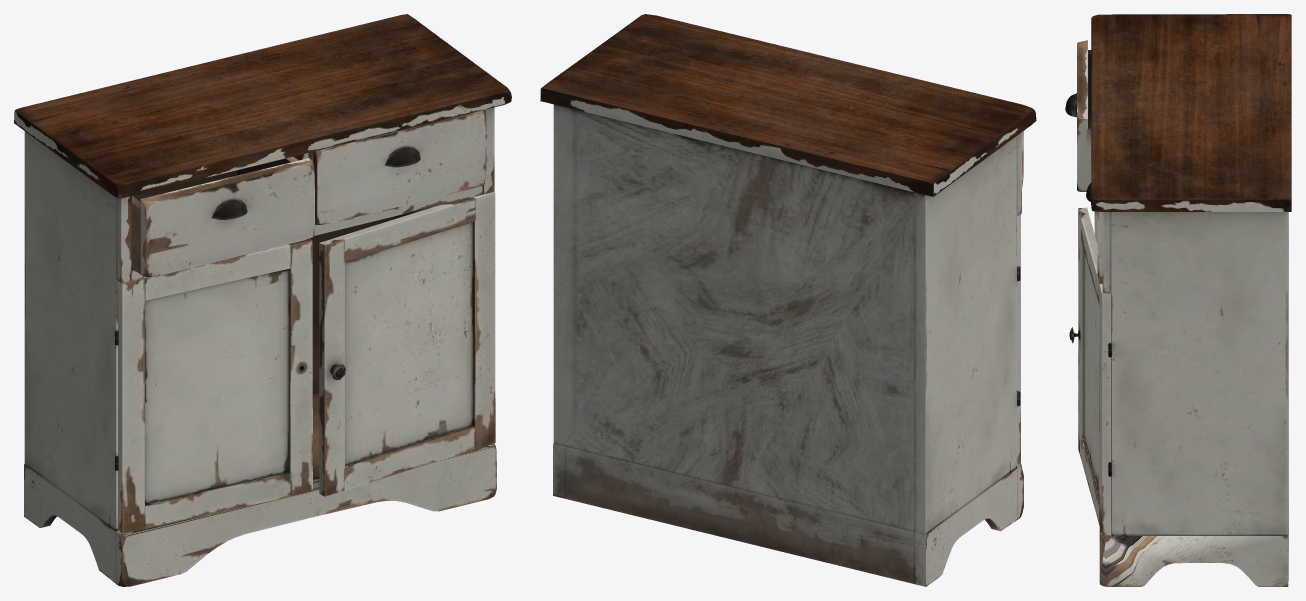
The model's file is painted-wooden-cabinet.glb.
3 renders of one model, left to right at view 1: azimuth 30°, elevation 25°; view 2: azimuth 150°, elevation 25°; view 3: azimuth 270°, elevation 25°, orthographic. The views are drawn at different scales.
Parts seen in each view (by area): view 1: painted_wooden_cabinet; view 2: painted_wooden_cabinet; view 3: painted_wooden_cabinet.
Part boxes in pixels (x1,y1,x2,y2): painted_wooden_cabinet: [14, 14, 511, 586]; painted_wooden_cabinet: [540, 14, 1036, 586]; painted_wooden_cabinet: [1065, 14, 1291, 586].
Bounding box in the file's own units: 1.19 × 1.18 × 0.6162.
Materials: 1 (1 with a texture image).
